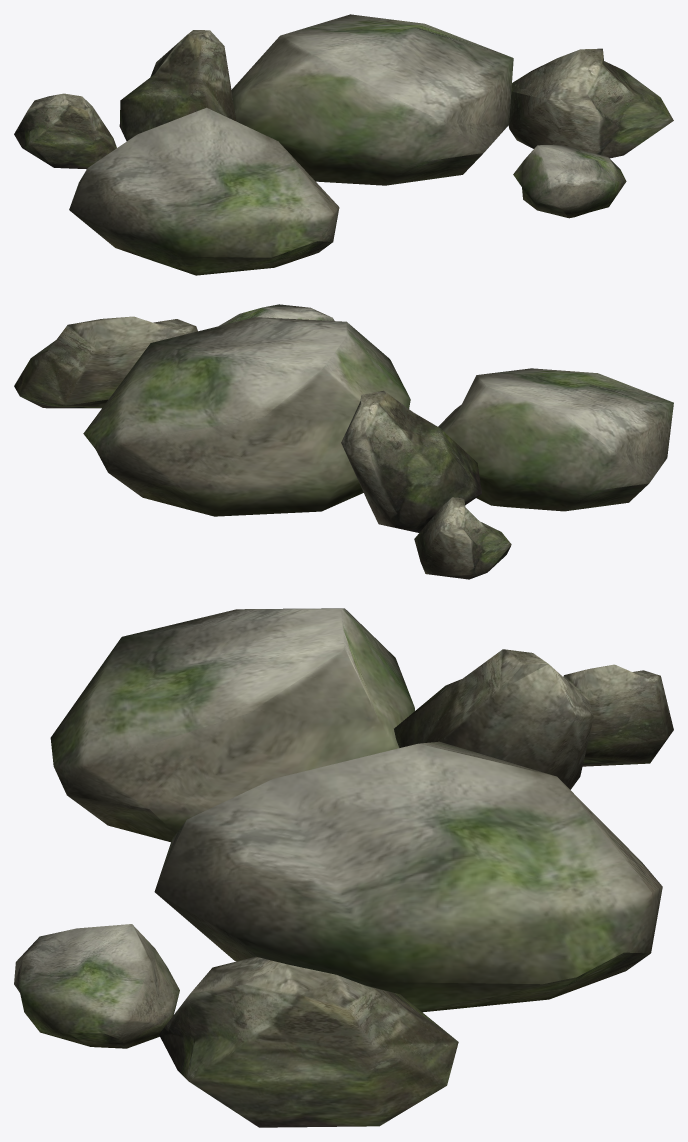
File: rock_group_2_floor.fbx
3 renders of one model, top to bottom at view 1: azimuth 30°, elevation 25°; view 2: azimuth 150°, elevation 25°; view 3: azimuth 270°, elevation 25°, orthographic. The views are drawn at different scales.
Visible parts, largest first — view 1: rock_2, rock_3, rock_4, rock_1, rock_6, rock_5; view 2: rock_2, rock_3, rock_1, rock_4, rock_5, rock_6; view 3: rock_2, rock_3, rock_4, rock_6, rock_1, rock_5.
Part boxes in pixels (<box>): rock_2: <box>231,14,513,185</box>; rock_3: <box>69,107,339,275</box>; rock_4: <box>508,48,673,158</box>; rock_1: <box>119,30,236,141</box>; rock_6: <box>513,144,626,218</box>; rock_5: <box>14,93,116,169</box>; rock_2: <box>83,317,410,516</box>; rock_3: <box>438,368,673,511</box>; rock_1: <box>341,390,481,532</box>; rock_4: <box>14,316,197,408</box>; rock_5: <box>414,497,511,579</box>; rock_6: <box>219,304,334,325</box>; rock_2: <box>154,741,662,1012</box>; rock_3: <box>50,608,414,842</box>; rock_4: <box>159,956,458,1127</box>; rock_6: <box>14,924,179,1048</box>; rock_1: <box>394,649,593,789</box>; rock_5: <box>563,664,673,766</box>.
Size of the model in its own units: 1387 by 308 by 887.
Materials: 1 (1 with a texture image).
